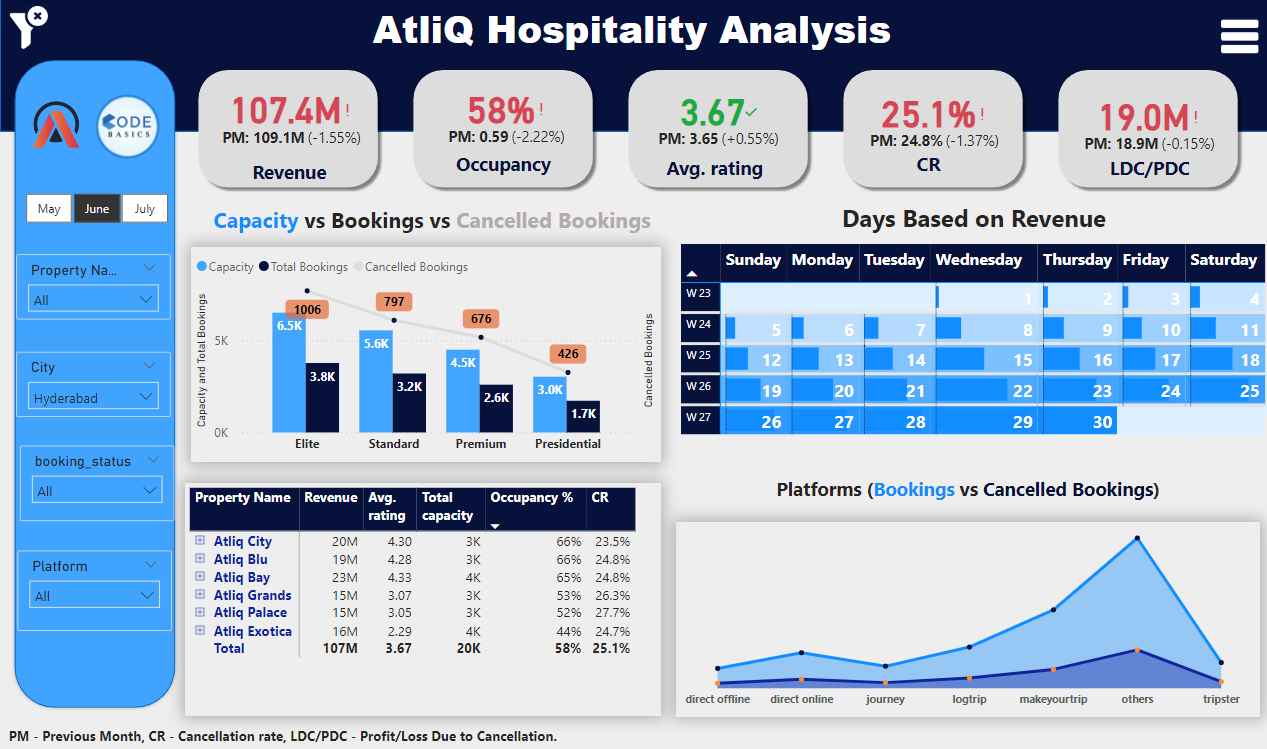

What the dashboard file says about the page in this screenshot:
{"tool":"powerbi","page":{"name":"Monthly","canvas":[1280,760],"ordinal":1},"visuals":[{"type":"group","id":"g1","title":"visuals","box":[0,0,1280.5,760.3],"z":0},{"type":"textbox","box":[0,727.8,1063.8,32.8],"z":0,"group":"g1"},{"type":"shape","box":[0,0,1280,134.4],"z":1000,"group":"g1"},{"type":"image","box":[2,0,52.8,58.9],"z":1000},{"type":"shape","box":[840.8,65.9,194.5,131.9],"z":2000,"group":"g1"},{"type":"shape","box":[624.8,65.9,194.5,131.9],"z":3000,"group":"g1"},{"type":"textbox","box":[679.4,476.2,586.9,50],"z":3000},{"type":"shape","box":[192.9,65.9,194.5,131.9],"z":4000,"group":"g1"},{"type":"textbox","box":[198.7,203.2,471.7,47],"z":4000},{"type":"shape","box":[408.9,65.9,194.5,131.9],"z":5000,"group":"g1"},{"type":"shape","box":[11.5,59.3,168.2,657.8],"z":6000,"group":"g1"},{"type":"shape","box":[1056.7,65.9,194.5,131.9],"z":7000,"group":"g1"},{"type":"pivotTable","fields":{"Rows":["dim_date.week no"],"Values":["Sum(dim_date.DAY)"],"Columns":["Week_day.Weekday"]},"box":[679.2,242.3,598.4,245.6],"z":8000,"group":"g1"},{"type":"slicer","fields":{"Values":["dim_date.mmm yy.Variation.Date Hierarchy.Month"]},"box":[0,189.6,192.9,42.9],"z":9000,"group":"g1"},{"type":"kpi","title":"Revenue","fields":{"Indicator":["resource_measures.revenue"],"TrendLine":["dim_date.date.Variation.Date Hierarchy.Month"],"Goal":["resource_measures.revenue LM"]},"box":[204.4,92.3,176.4,62.6],"z":10000,"group":"g1"},{"type":"kpi","fields":{"Indicator":["resource_measures.Occupancy %"],"TrendLine":["dim_date.date.Variation.Date Hierarchy.Month"],"Goal":["resource_measures.Occupancy % LM"]},"box":[423.7,89,171.5,65.9],"z":11000,"group":"g1"},{"type":"kpi","fields":{"Goal":["resource_measures.cancellation rate LM"],"TrendLine":["dim_date.date.Variation.Date Hierarchy.Month"],"Indicator":["resource_measures.CR"]},"box":[852.3,90.7,174.8,72.5],"z":12000,"group":"g1"},{"type":"kpi","fields":{"Indicator":["resource_measures.LDC"],"Goal":["resource_measures.LDC LM"],"TrendLine":["dim_date.date.Variation.Date Hierarchy.Month"]},"box":[1068.3,89,174.8,80.8],"z":13000,"group":"g1"},{"type":"kpi","title":"Avg. rating ","fields":{"Indicator":["resource_measures.Avg. rating"],"TrendLine":["dim_date.date.Variation.Date Hierarchy.Month"],"Goal":["resource_measures.avg.rating LM"]},"box":[631.4,92.3,183,65.9],"z":14000,"group":"g1"},{"type":"textbox","box":[1083.1,153.3,145.1,46.2],"z":15000,"group":"g1"},{"type":"textbox","box":[860.6,150,145.1,44.5],"z":16000,"group":"g1"},{"type":"textbox","box":[646.2,153.3,145.1,44.5],"z":17000,"group":"g1"},{"type":"textbox","box":[433.6,150,145.1,44.5],"z":18000,"group":"g1"},{"type":"textbox","box":[217.6,156.6,146.7,37.9],"z":19000,"group":"g1"},{"type":"textbox","box":[1.9,0,1278.1,65.6],"z":20000,"group":"g1"},{"type":"image","title":"three dot menu","box":[1213.7,15.1,64.4,47.3],"z":21000,"group":"g1"},{"type":"slicer","fields":{"Values":["dim_hotels.property_name"]},"box":[16.5,257.2,155,65.9],"z":22000,"group":"g1"},{"type":"slicer","fields":{"Values":["dim_hotels.city"]},"box":[16.5,356.1,155,65.9],"z":23000,"group":"g1"},{"type":"slicer","fields":{"Values":["fact_bookings.booking_status"]},"box":[19.8,450.1,155,75.8],"z":24000,"group":"g1"},{"type":"slicer","fields":{"Values":["fact_bookings.booking_platform"]},"box":[18.1,555.6,155,80.8],"z":25000,"group":"g1"},{"type":"image","title":"atliq","box":[15.1,90.4,77.6,73.8],"z":26000,"group":"g1"},{"type":"image","title":"codebasics","box":[85.2,90.4,85.2,77.6],"z":27000,"group":"g1"},{"type":"lineClusteredColumnComboChart","title":"Capacity vs Bookings vs Cancelled Bookings","fields":{"Category":["dim_rooms.room_class"],"Y":["resource_measures.Total capacity","resource_measures.Total sucessful bookings"],"Y2":["resource_measures.Total cancelled bookings"]},"box":[192.6,250.2,471.7,216.9],"z":28000,"group":"g1"},{"type":"areaChart","fields":{"Category":["fact_bookings.booking_platform"],"Y":["resource_measures.Total bookings","resource_measures.Total cancelled bookings"]},"box":[679.4,526.3,586.9,195.6],"z":29000,"group":"g1"},{"type":"pivotTable","fields":{"Rows":["dim_hotels.property_name","dim_hotels.city"],"Values":["resource_measures.revenue","resource_measures.Avg. rating","resource_measures.Total capacity","resource_measures.Occupancy %","resource_measures.CR"]},"box":[186.3,488,478.1,234.1],"z":30000,"group":"g1"},{"type":"textbox","box":[679.2,199.5,598.4,49.5],"z":31000,"group":"g1"}]}

Visuals, with their boxes in screenshot pixels (x1, y1, x2, y2), scaled from the page's 1280x760 canvas onto the 1267x749 screenshot:
"visuals" group: box=[0, 0, 1266, 748]
textbox: box=[0, 717, 1053, 748]
shape: box=[0, 0, 1266, 132]
image: box=[2, 0, 54, 58]
shape: box=[832, 65, 1025, 195]
shape: box=[618, 65, 811, 195]
textbox: box=[672, 469, 1253, 519]
shape: box=[191, 65, 383, 195]
textbox: box=[197, 200, 664, 247]
shape: box=[405, 65, 597, 195]
shape: box=[11, 58, 178, 707]
shape: box=[1046, 65, 1238, 195]
pivotTable - dim_date.week no x Sum(dim_date.DAY): box=[672, 239, 1265, 481]
slicer - dim_date.mmm yy.Variation.Date Hierarchy.Month: box=[0, 187, 191, 229]
"Revenue" kpi: box=[202, 91, 377, 153]
kpi - resource_measures.Occupancy % x dim_date.date.Variation.Date Hierarchy.Month: box=[419, 88, 589, 153]
kpi - resource_measures.cancellation rate LM x dim_date.date.Variation.Date Hierarchy.Month: box=[844, 89, 1017, 161]
kpi - resource_measures.LDC x resource_measures.LDC LM: box=[1057, 88, 1230, 167]
"Avg. rating " kpi: box=[625, 91, 806, 156]
textbox: box=[1072, 151, 1216, 197]
textbox: box=[852, 148, 995, 192]
textbox: box=[640, 151, 783, 195]
textbox: box=[429, 148, 573, 192]
textbox: box=[215, 154, 361, 192]
textbox: box=[2, 0, 1266, 65]
"three dot menu" image: box=[1201, 15, 1265, 61]
slicer - dim_hotels.property_name: box=[16, 253, 170, 318]
slicer - dim_hotels.city: box=[16, 351, 170, 416]
slicer - fact_bookings.booking_status: box=[20, 444, 173, 518]
slicer - fact_bookings.booking_platform: box=[18, 548, 171, 627]
"atliq" image: box=[15, 89, 92, 162]
"codebasics" image: box=[84, 89, 169, 166]
"Capacity vs Bookings vs Cancelled Bookings" lineClusteredColumnComboChart: box=[191, 247, 658, 460]
areaChart - fact_bookings.booking_platform x resource_measures.Total bookings: box=[672, 519, 1253, 711]
pivotTable - dim_hotels.property_name x dim_hotels.city: box=[184, 481, 658, 712]
textbox: box=[672, 197, 1265, 245]
